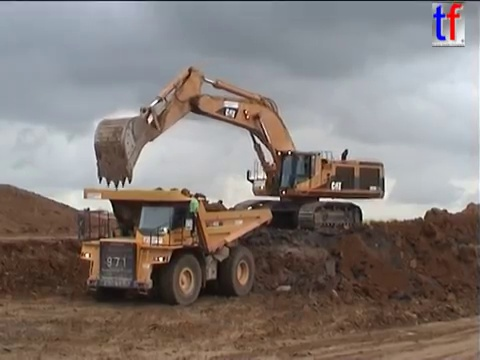excavator: (91, 63, 388, 237)
truck: (75, 185, 274, 307)
worker: (186, 190, 204, 236)
